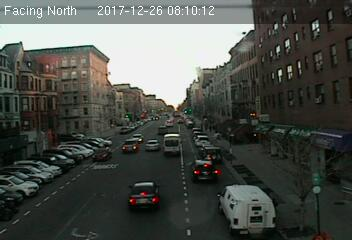car: (128, 181, 163, 211), (191, 159, 219, 182), (201, 146, 223, 164), (92, 147, 111, 161), (121, 139, 139, 152), (145, 140, 160, 150)
truck: (216, 180, 277, 235), (162, 134, 183, 156)
